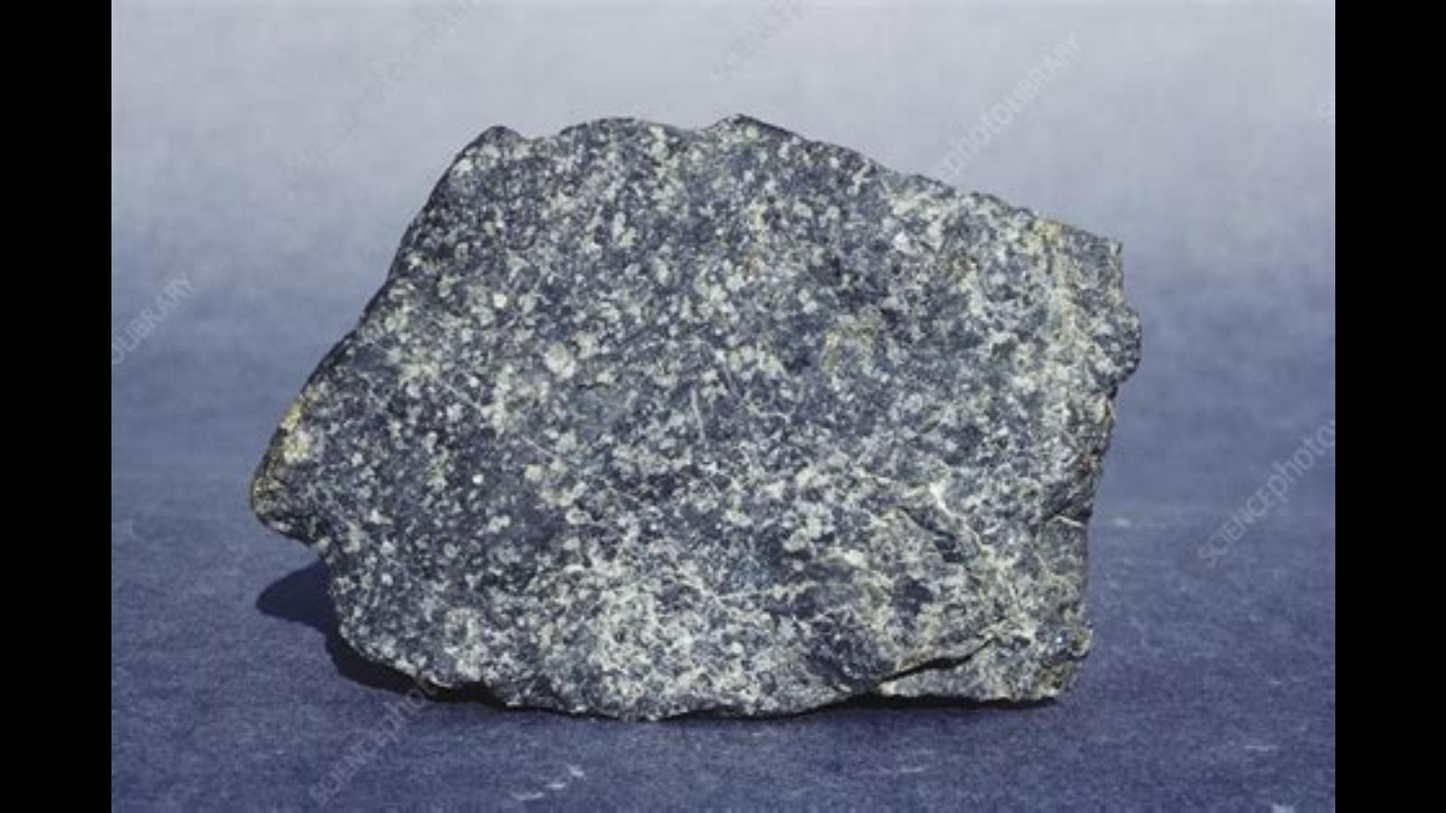rock: (253, 124, 1136, 715)
